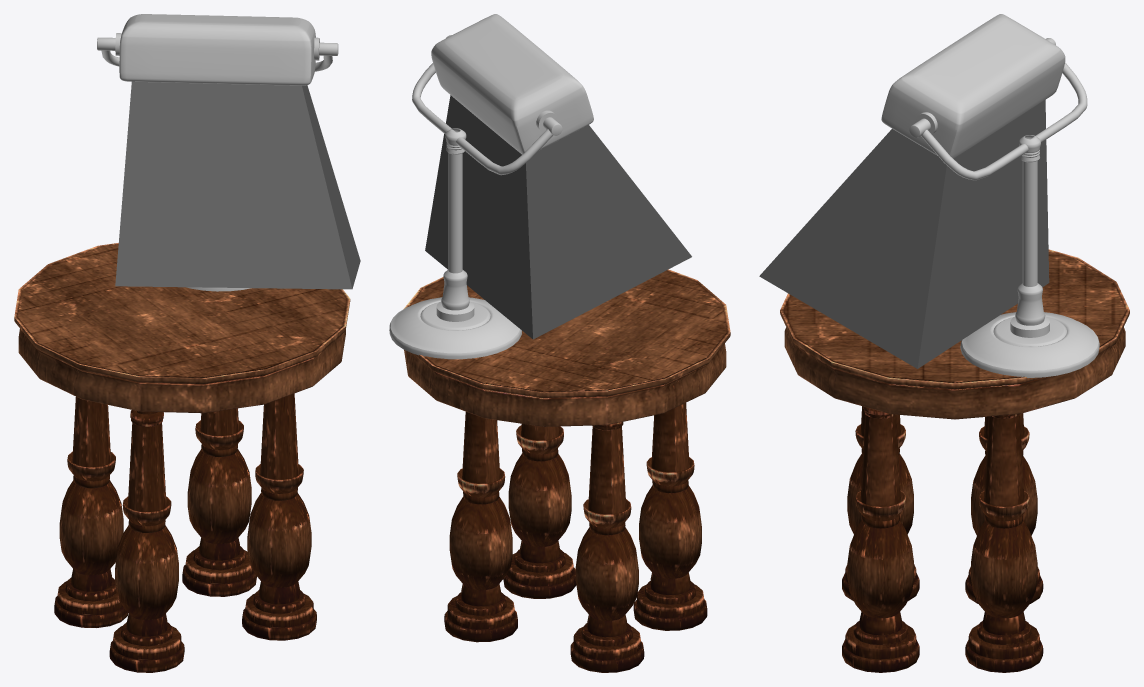
The model's file is podium.fbx.
The picture shows the model from 3 angles, left to right: view 1: azimuth 30°, elevation 25°; view 2: azimuth 150°, elevation 25°; view 3: azimuth 270°, elevation 25°; orthographic projection. The views are drawn at different scales.
Parts seen in each view (by area): view 1: polySurface14; view 2: polySurface14; view 3: polySurface14.
Boxes of the visible parts, bbox=[...] form: polySurface14: bbox=[14, 14, 360, 672]; polySurface14: bbox=[389, 14, 730, 672]; polySurface14: bbox=[759, 14, 1129, 672].
Size of the model in its own units: 106 by 191 by 107.
